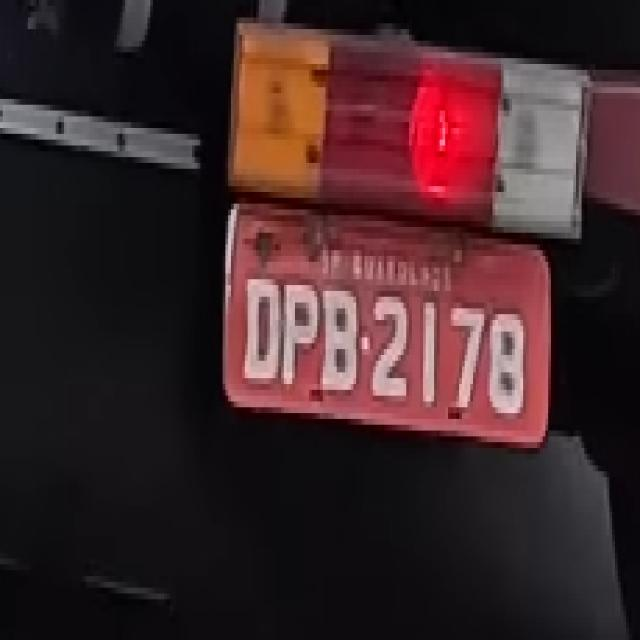Placa_mercosul_carro: (223, 198, 552, 449)
